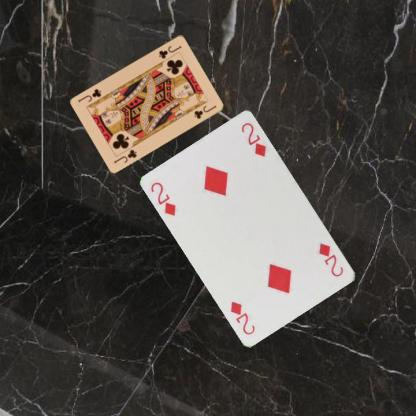2d: (147, 179, 178, 218), (317, 240, 345, 278)
Jc: (156, 43, 183, 60), (111, 147, 138, 164)
